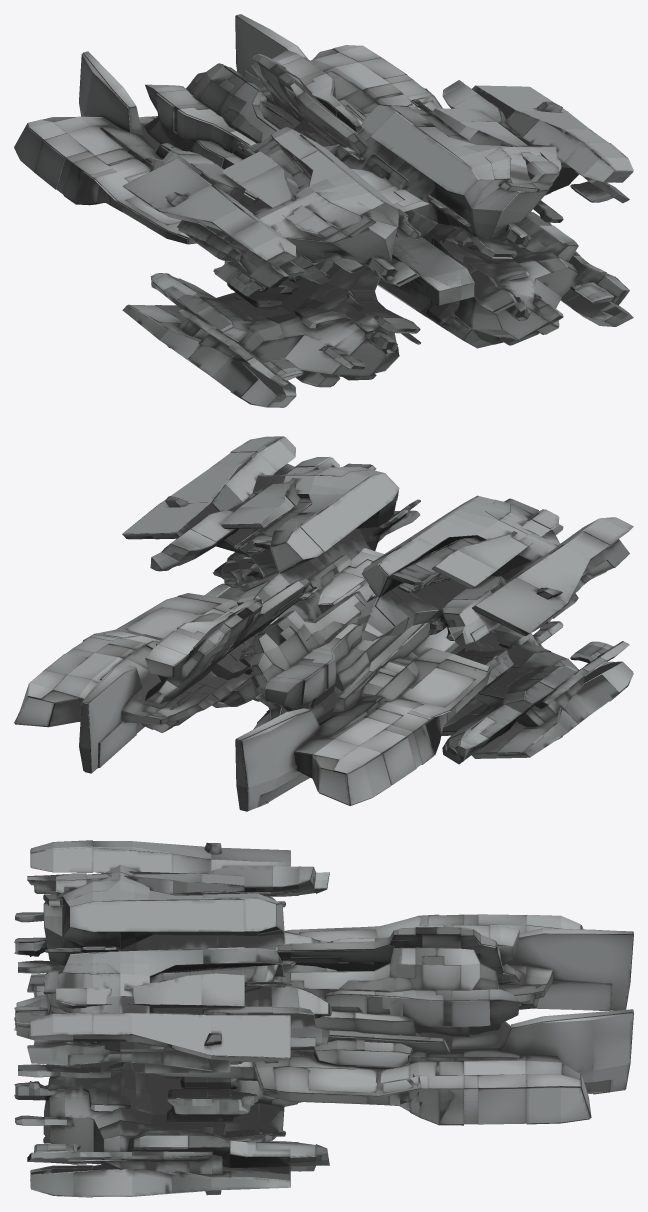
Rendered from Cruiser003.fbx.
3 views of the same model, one above another, from view 1: azimuth 30°, elevation 25°; view 2: azimuth 150°, elevation 25°; view 3: azimuth 270°, elevation 25° (orthographic). The views are drawn at different scales.
Visible parts, largest first — view 1: Cruiser003; view 2: Cruiser003; view 3: Cruiser003.
Boxes of the visible parts, bbox=[...] form: Cruiser003: bbox=[14, 14, 633, 407]; Cruiser003: bbox=[14, 436, 633, 811]; Cruiser003: bbox=[14, 840, 633, 1197].
Bounding box in the file's own units: 47.14 × 20.23 × 59.17.
